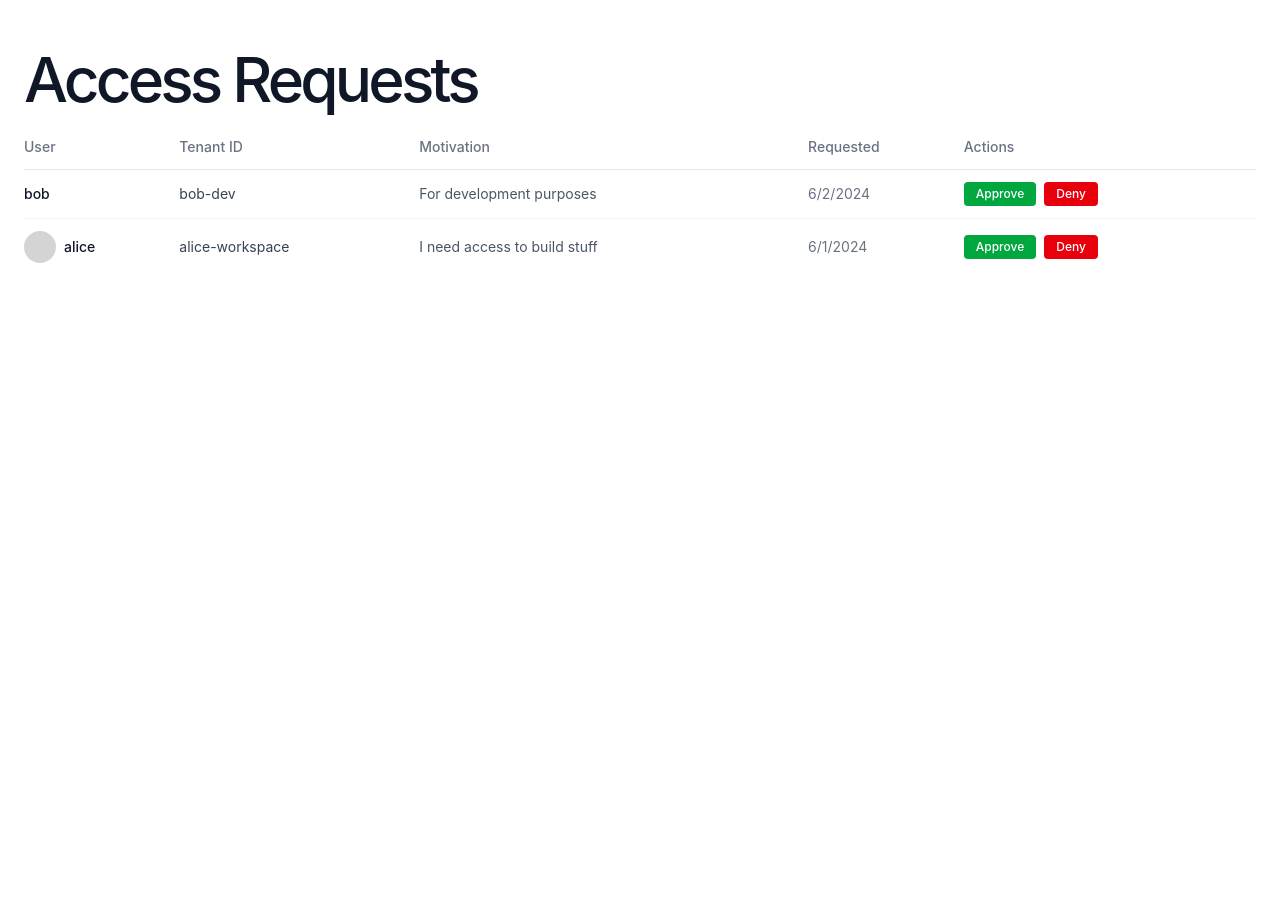
Test: AccessRequests Page › cancel button in deny modal closes modal without action
Expected: the text "bob" is shown, [24,184,50,204]
Click the button "Deny" in the row of "bob-dev" at (1071, 194), box [1044,182,1098,206]
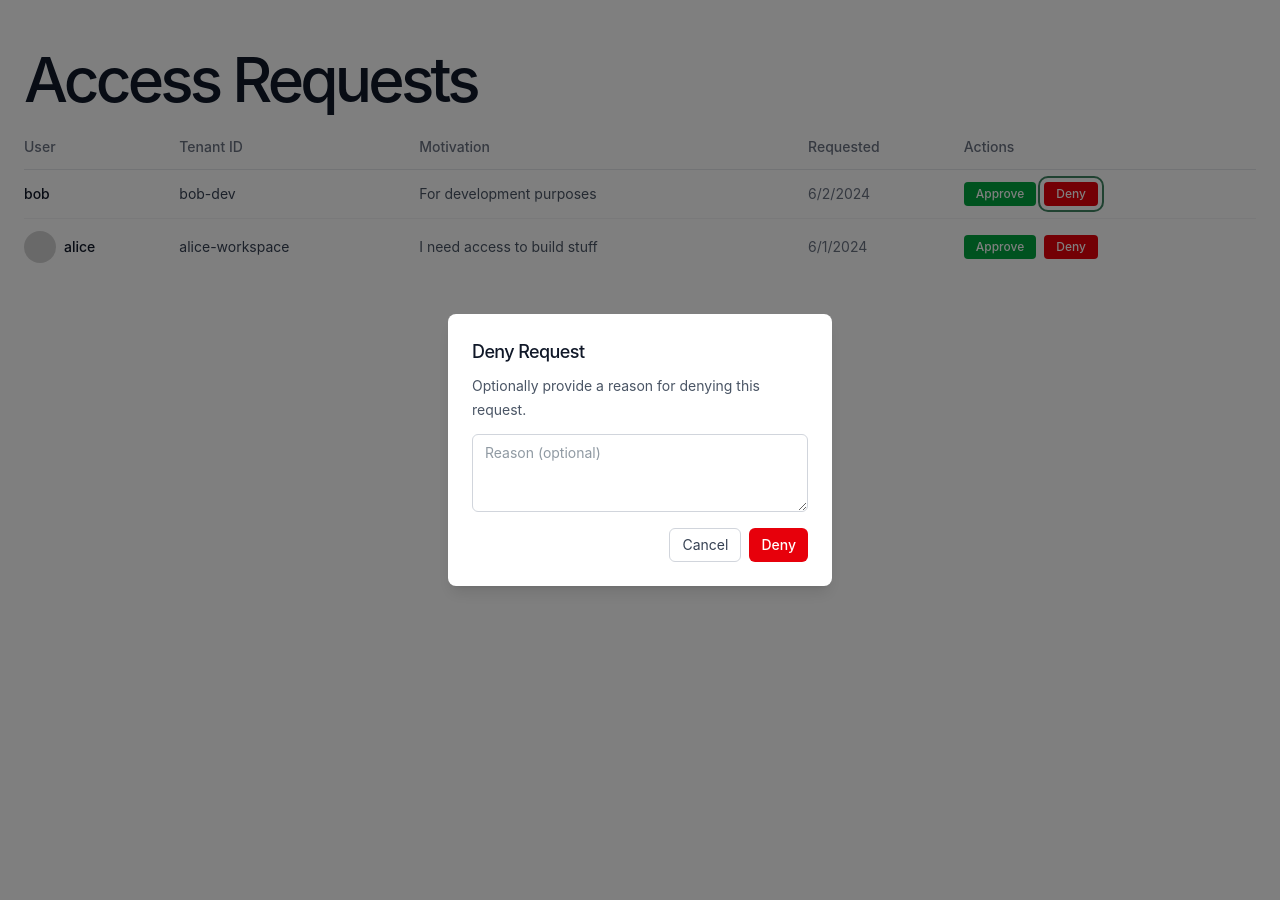
Expected: the heading "Deny Request" is shown, [472,341,584,362]
Click the button "Cancel" at (705, 545), box [670,528,741,562]
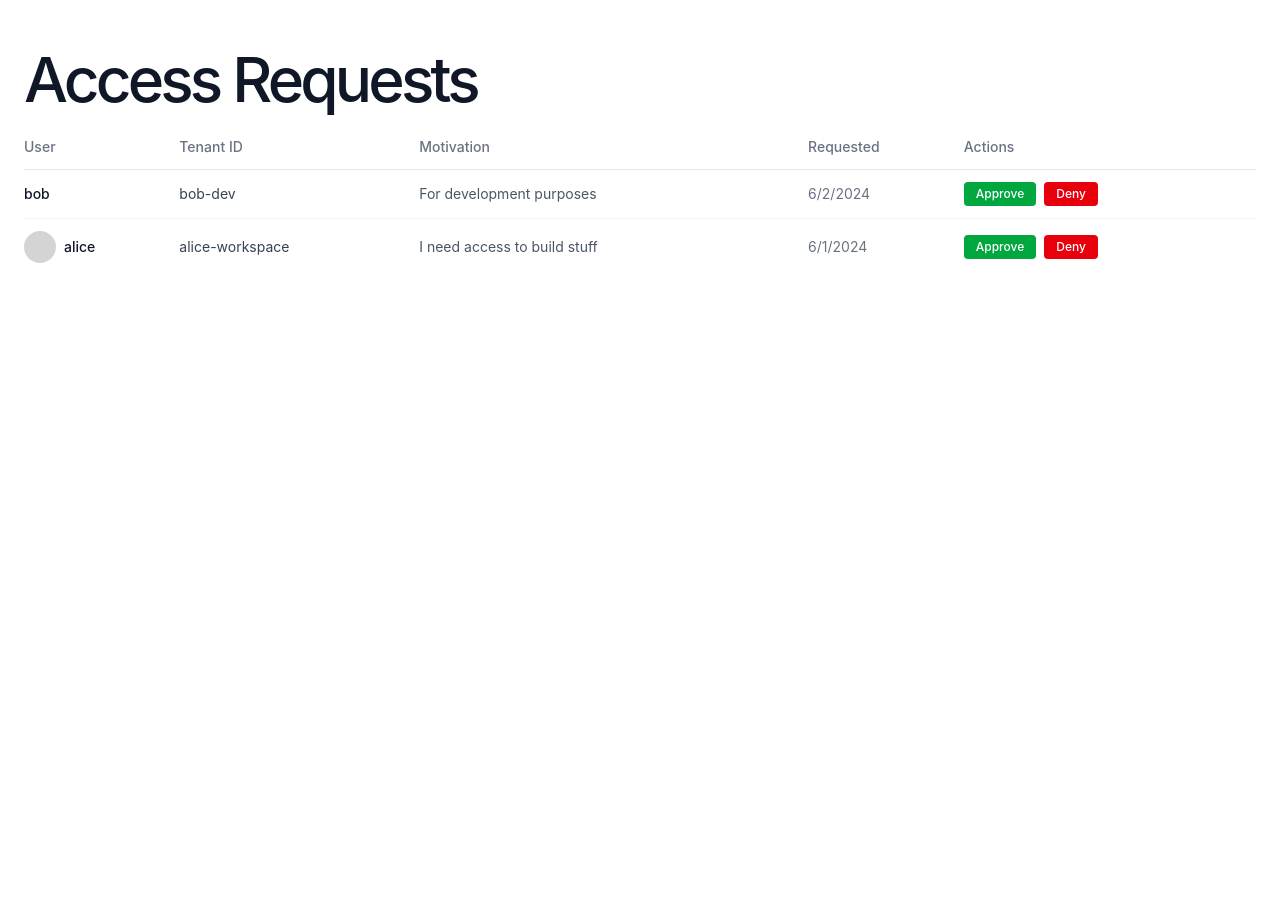
Expected: the heading "Deny Request" is gone
